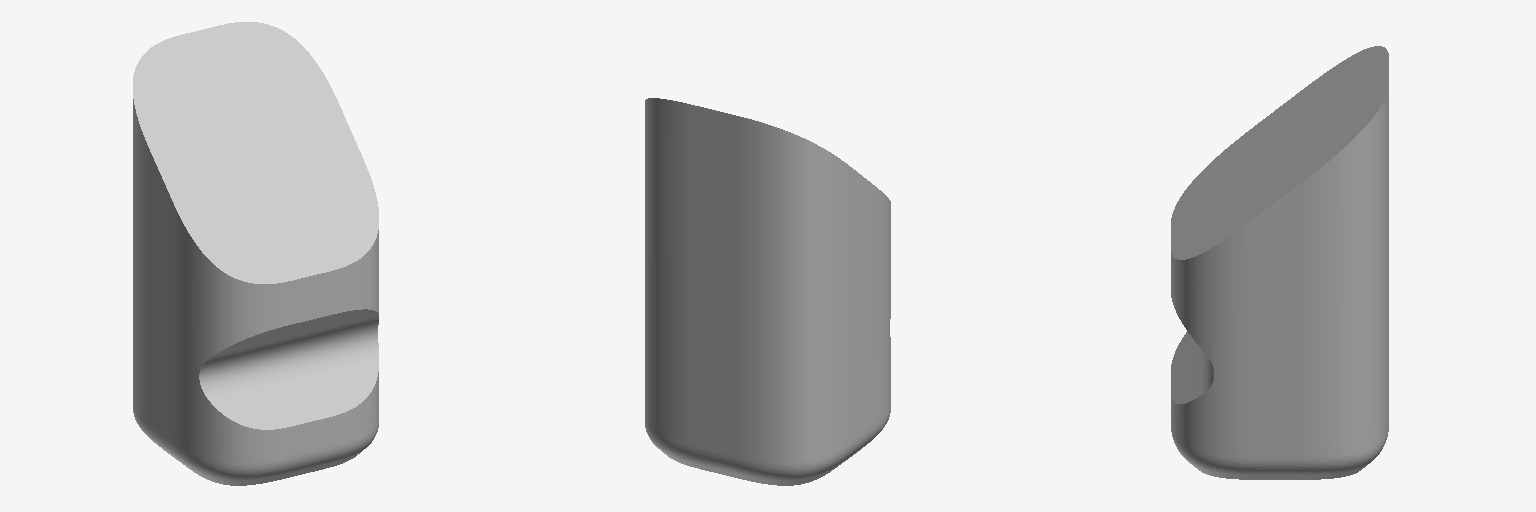
The model's file is 03_knight.obj.
The picture shows the model from 3 angles: view 1: azimuth 30°, elevation 25°; view 2: azimuth 150°, elevation 25°; view 3: azimuth 270°, elevation 25°; orthographic projection.
Parts seen in each view (by area): view 1: Knight_-_x2pcs_by_colour_-_001; view 2: Knight_-_x2pcs_by_colour_-_001; view 3: Knight_-_x2pcs_by_colour_-_001.
Boxes of the visible parts, <box> form: Knight_-_x2pcs_by_colour_-_001: <box>133,22,378,485</box>; Knight_-_x2pcs_by_colour_-_001: <box>645,98,890,485</box>; Knight_-_x2pcs_by_colour_-_001: <box>1171,46,1388,479</box>.
Size of the model in its own units: 16.5 by 31 by 16.5.